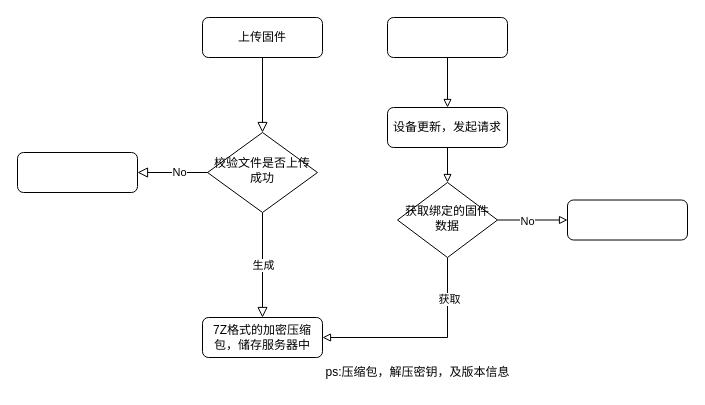
The diagram is 705 pixels wide and 405 high, and some of its shapes have lost their labels. Here are the shapes that lost their labels. From the top down, the centre of each, then its label:
the point at 447,37: 系统内将固件绑定到设备上
the point at 77,172: 报错，校验失败重新上传
the point at 627,219: 获取失败报错
